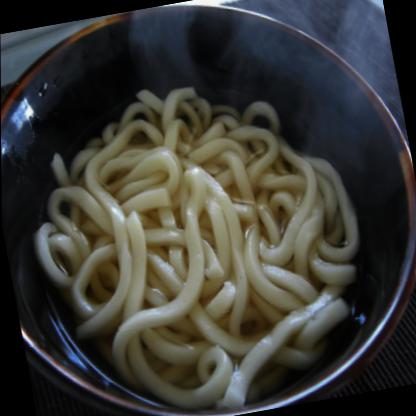Udon: (18, 53, 379, 415)
